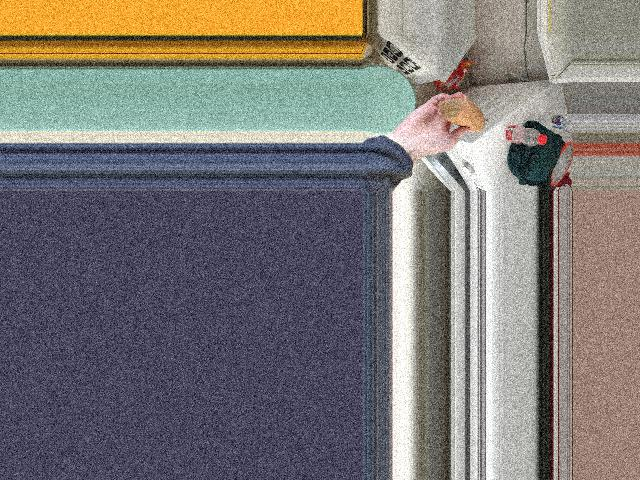sweet_potato: (444, 98, 484, 130)
